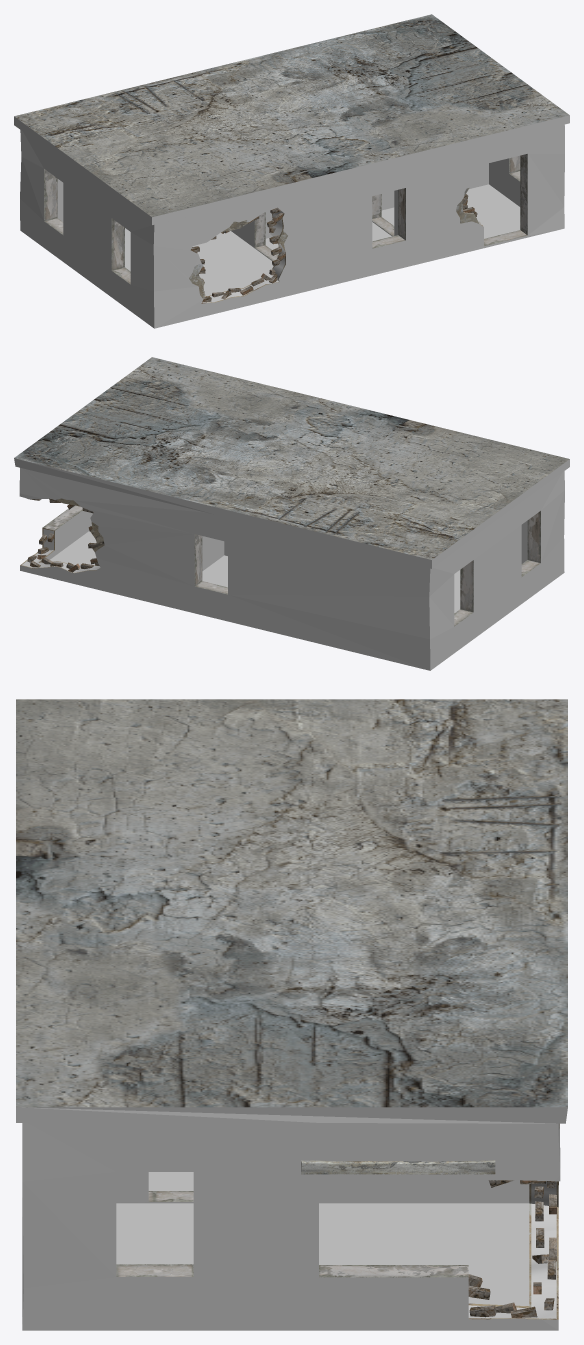
Rendered from Corps_Form_01_1_Damaged.FBX.
3 views of the same model, one above another, from view 1: azimuth 30°, elevation 25°; view 2: azimuth 150°, elevation 25°; view 3: azimuth 270°, elevation 25° (orthographic). The views are drawn at different scales.
Visible parts, largest first — view 1: Corps_01_1_Damaged, Bricks; view 2: Corps_01_1_Damaged, Bricks; view 3: Corps_01_1_Damaged, Bricks.
Boxes of the visible parts, x1,y1,x2,y2 form: Corps_01_1_Damaged: (14,14,569,328); Bricks: (191,194,477,302); Corps_01_1_Damaged: (14,357,569,670); Bricks: (27,498,99,572); Corps_01_1_Damaged: (16,699,567,1330); Bricks: (468,1180,556,1317).
Bounding box in the file's own units: 1182 × 676 × 307.
